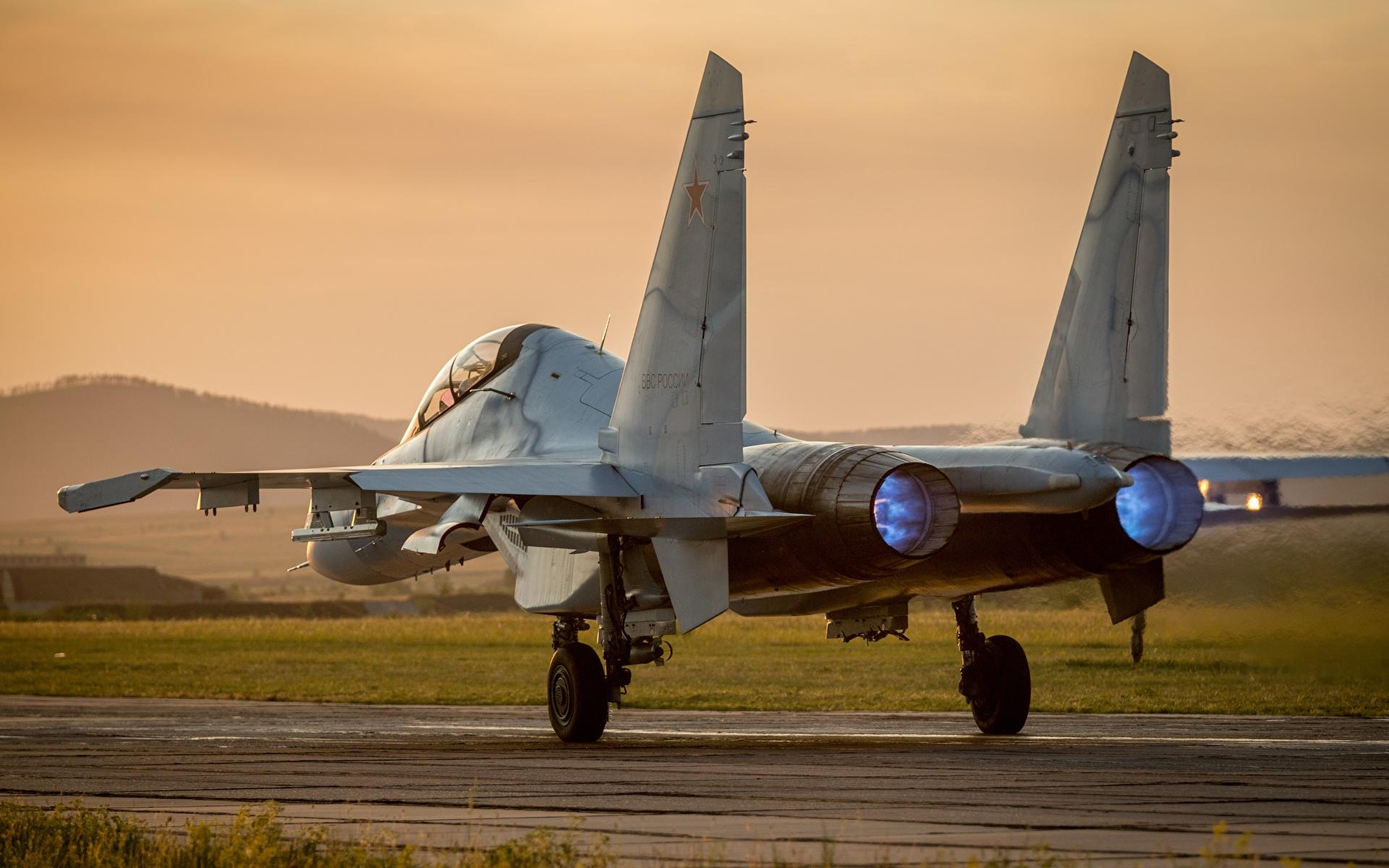aircraft: (12, 44, 1334, 744)
